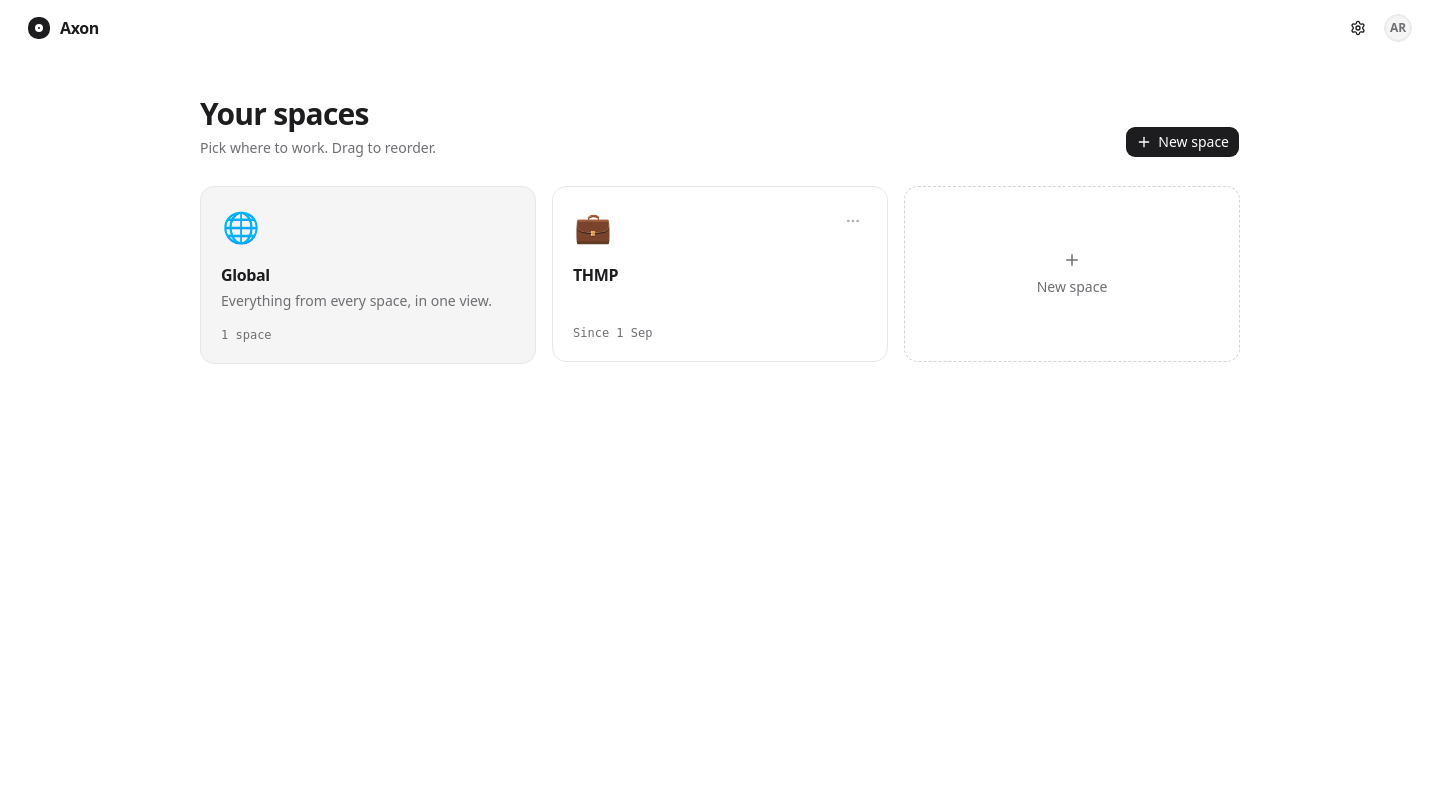
Test: SpacesPage › only deletes after typing the exact name
Step 1. Click the button named "THMP options" → {"x": 853, "y": 221}, box [839, 207, 867, 235]
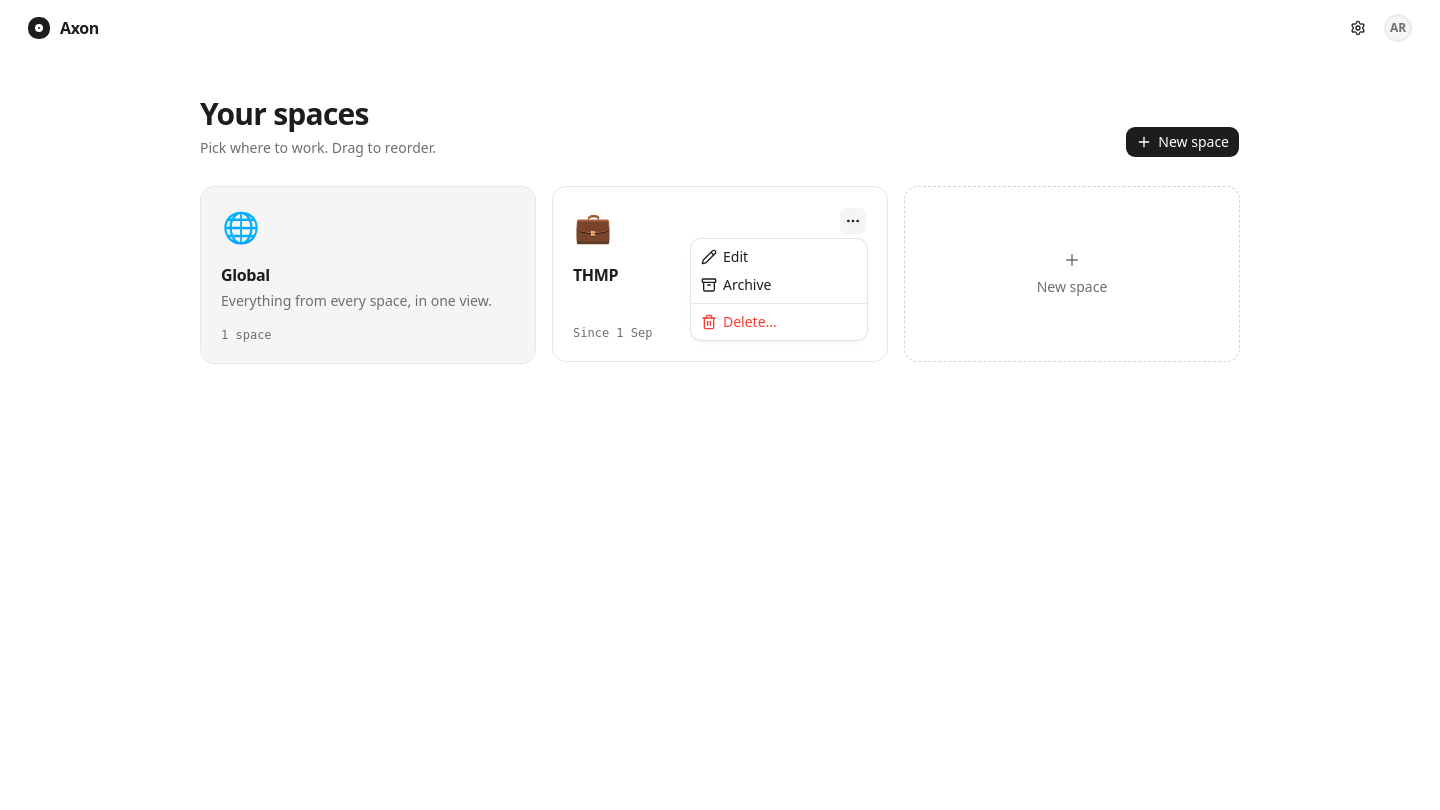
Step 2. Click the menu item "Delete…" → {"x": 739, "y": 322}, box [701, 312, 777, 331]
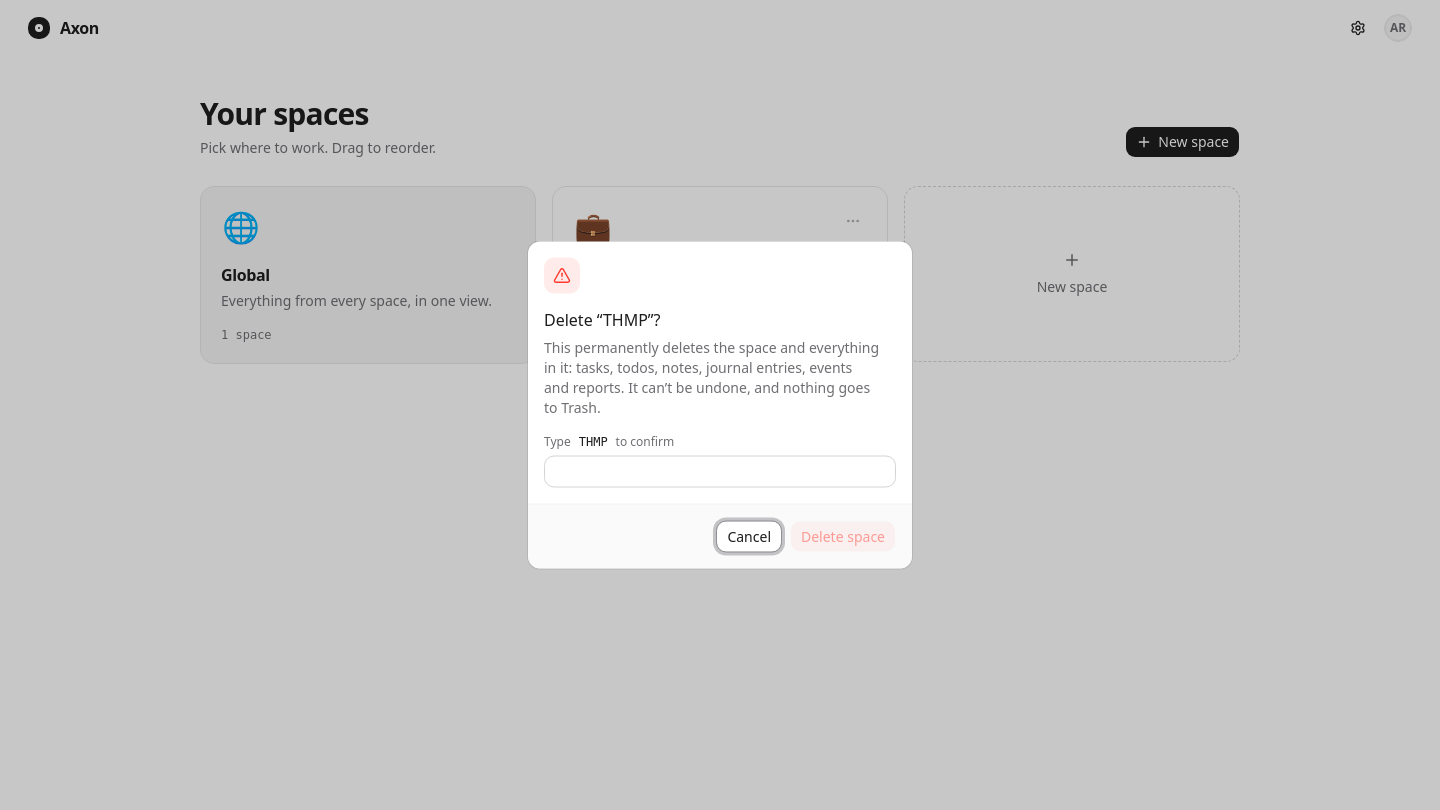
Expected: the button "Delete space" is disabled, [790, 520, 896, 552]
Step 3. Type "thmp" into the field labelled "Type THMP to confirm" → {"x": 720, "y": 472}, box [544, 456, 896, 488]
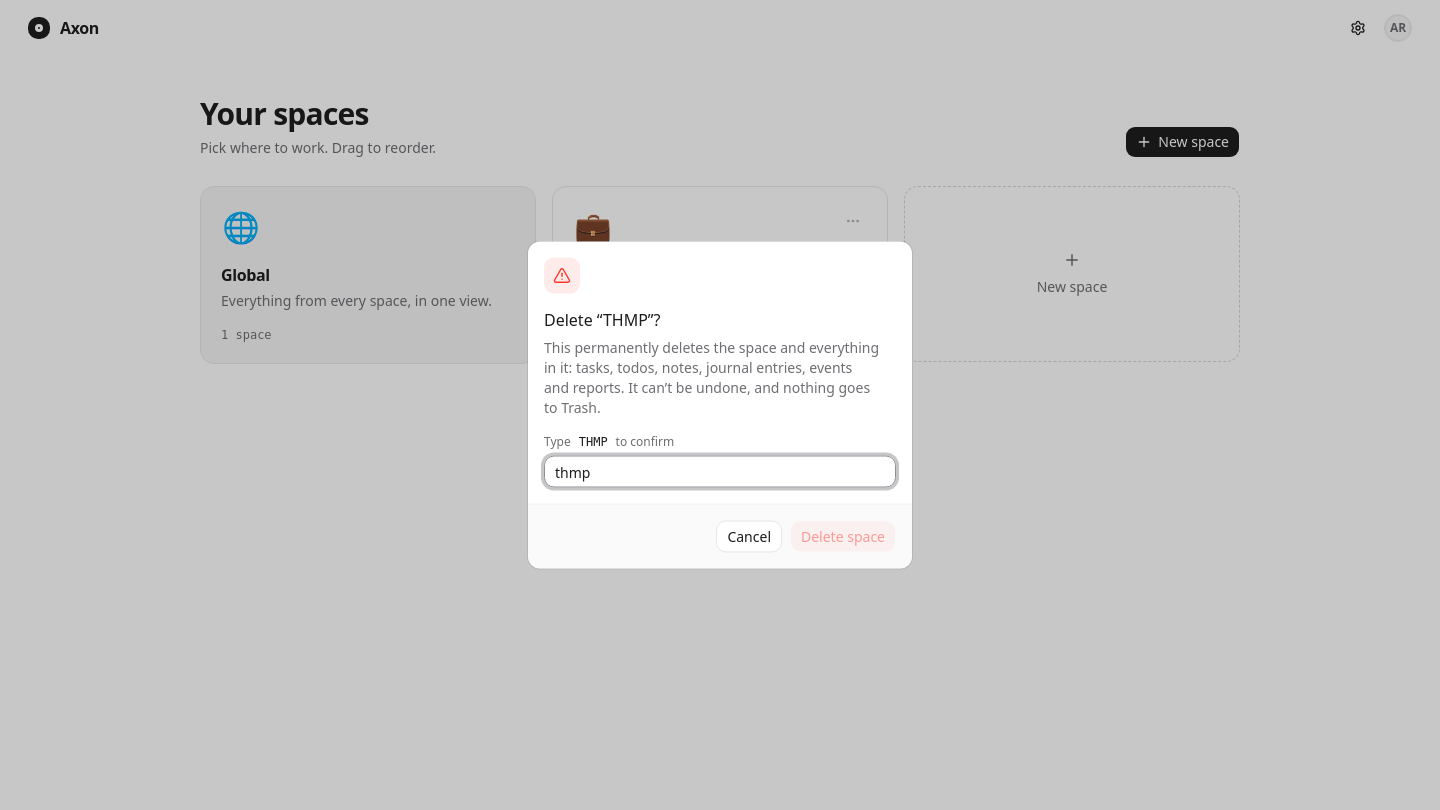
Expected: the button "Delete space" is disabled, [790, 520, 896, 552]
Step 4. Replace the text in the field labelled "Type THMP to confirm" with "THMP" → {"x": 720, "y": 472}, box [544, 456, 896, 488]
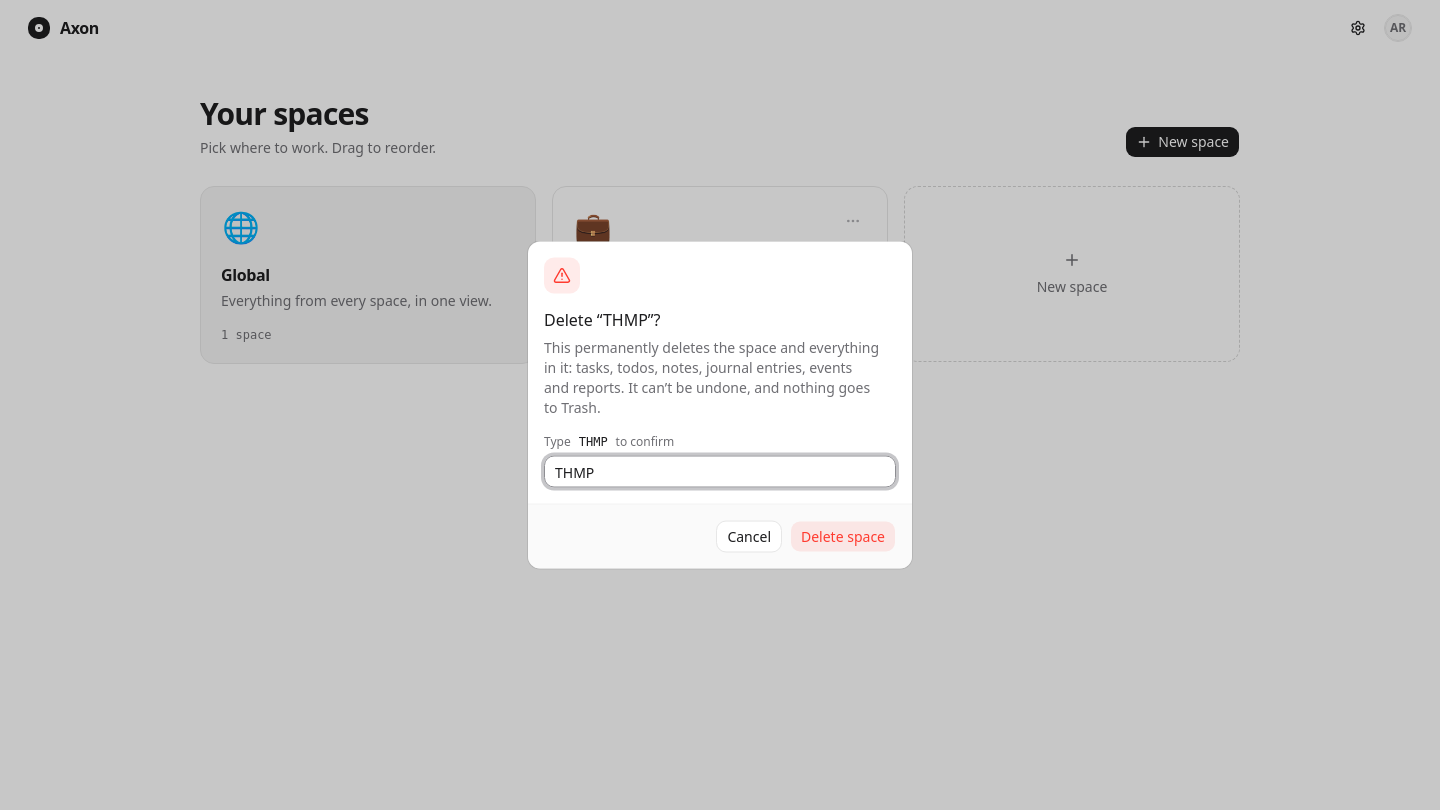
Step 5. Click the button "Delete space" → {"x": 843, "y": 536}, box [790, 520, 896, 552]
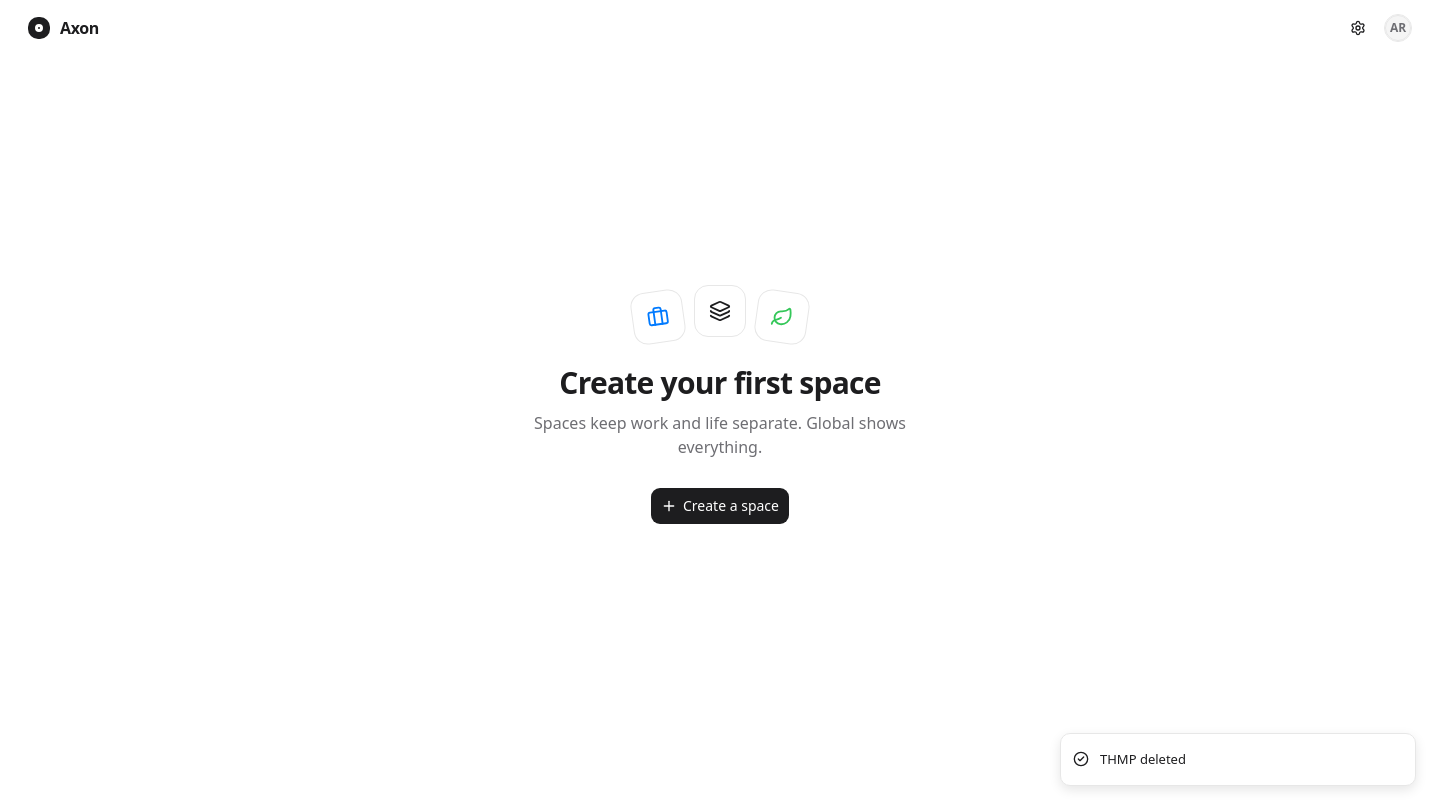
Expected: the button "Create a space" is shown, [650, 487, 790, 525]
